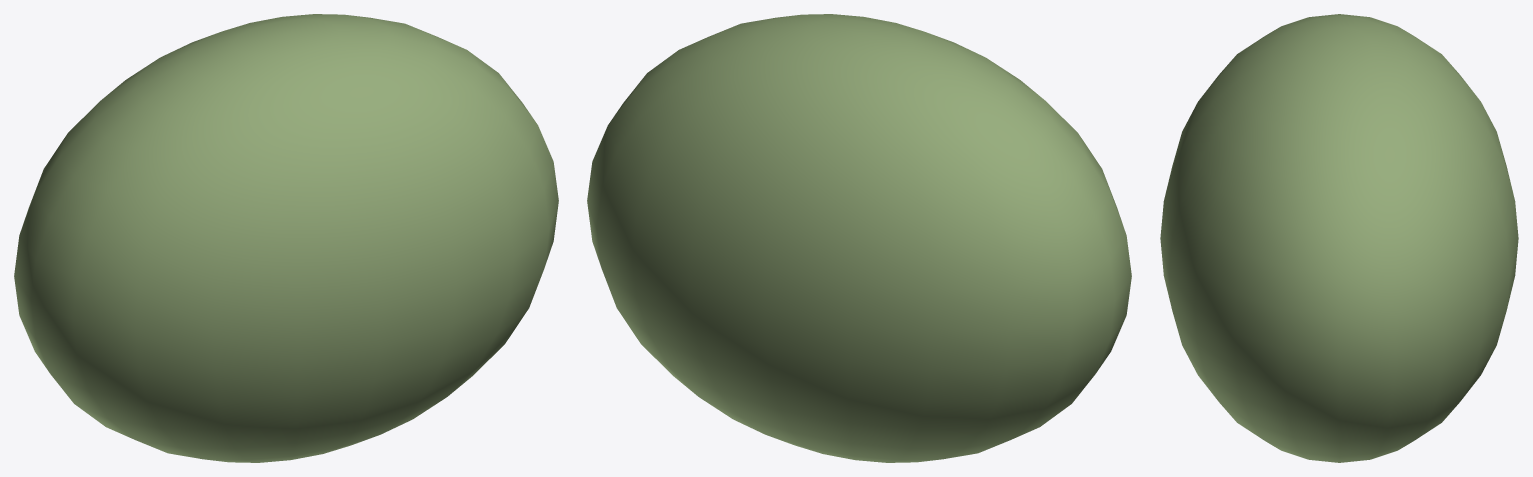
File: spleen.glb
3 views of the same model, side by side, from view 1: azimuth 30°, elevation 25°; view 2: azimuth 150°, elevation 25°; view 3: azimuth 270°, elevation 25° (orthographic). The views are drawn at different scales.
Visible parts, largest first — view 1: dev-marker-spleen; view 2: dev-marker-spleen; view 3: dev-marker-spleen.
Part boxes in pixels (left/top/right/bottom): dev-marker-spleen: left=14, top=14, right=558, bottom=462; dev-marker-spleen: left=587, top=14, right=1131, bottom=462; dev-marker-spleen: left=1160, top=14, right=1518, bottom=462.
Bounding box in the file's own units: 0.17 × 0.13 × 0.11.
